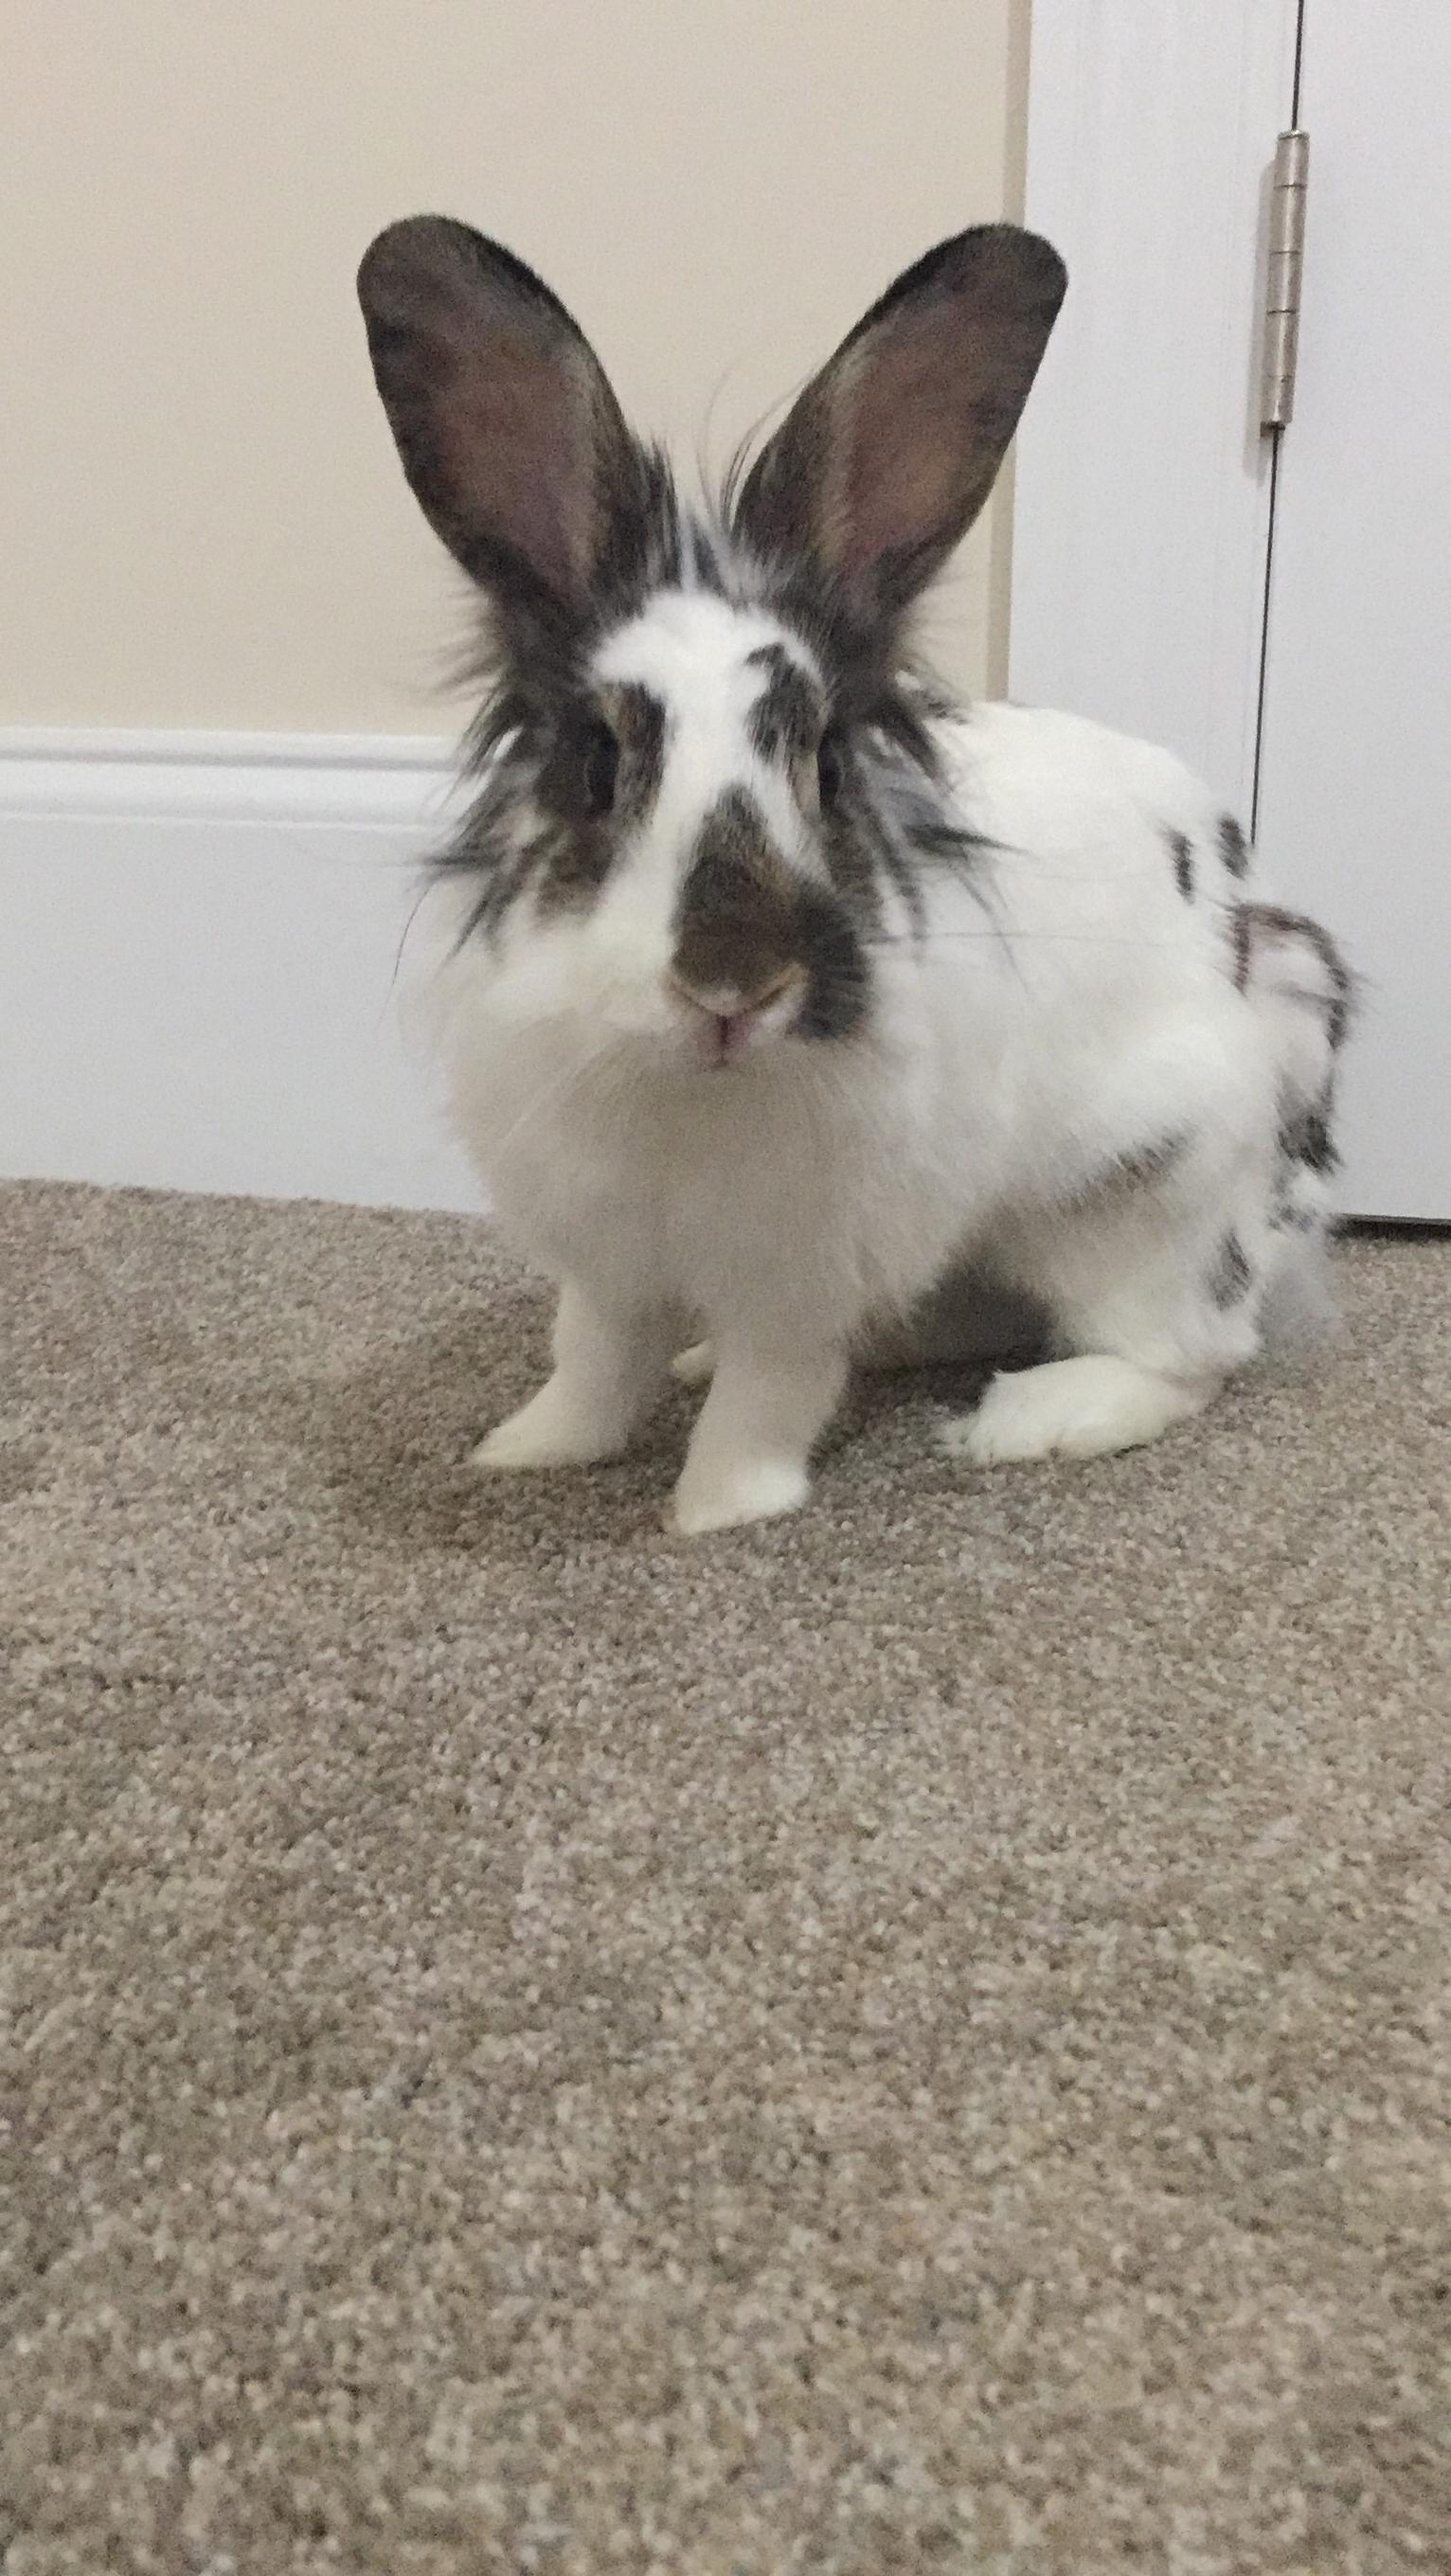bunny: (331, 205, 1373, 1550)
